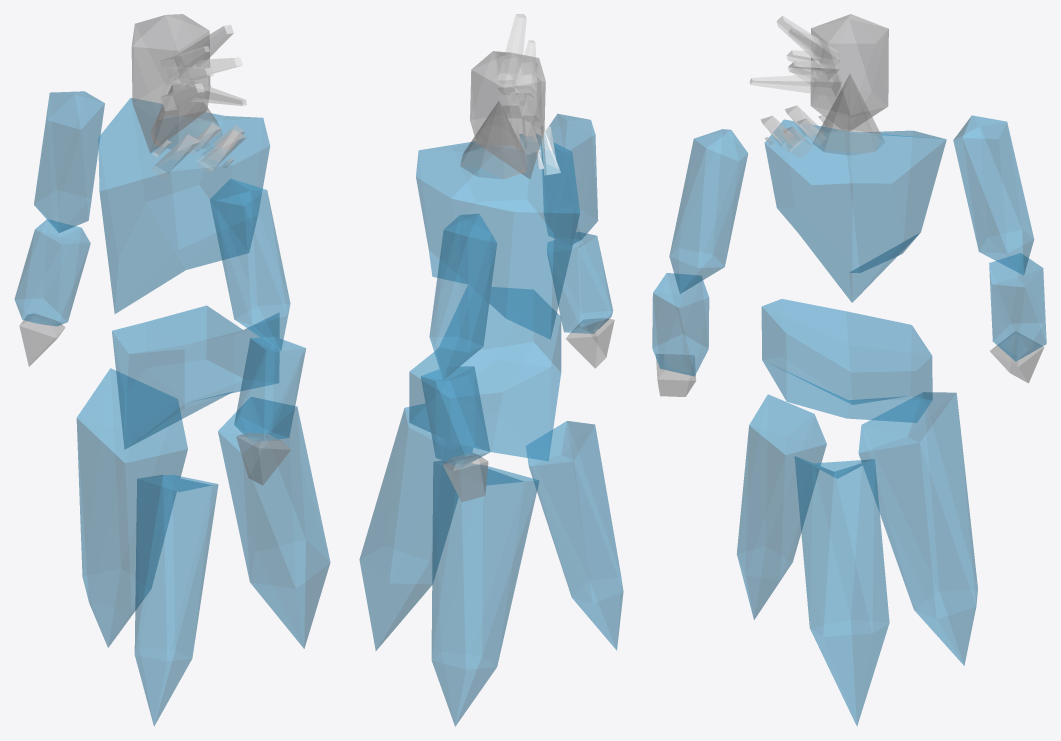
File: ghostIdle30.obj
3 renders of one model, left to right at view 1: azimuth 30°, elevation 25°; view 2: azimuth 150°, elevation 25°; view 3: azimuth 270°, elevation 25°, orthographic. The views are drawn at different scales.
Parts seen in each view (by area): view 1: Cube.001_Cube.001, Icosphere.005, Icosphere.004, Cube_Cube.002, Icosphere.003, Icosphere.005_Icosphere.001, Icosphere.003_Icosphere.001, Icosphere.007_Icosphere.001, Icosphere.008_Icosphere.001, Icosphere.006_Icosphere.001, Cone_Cone.002, Cube.002_Cube.001 (+8 smaller); view 2: Cube.001_Cube.001, Cube_Cube.002, Icosphere.005, Icosphere.004, Icosphere.003, Icosphere.007_Icosphere.001, Icosphere.003_Icosphere.001, Icosphere.005_Icosphere.001, Icosphere.008_Icosphere.001, Icosphere.006_Icosphere.001, Cone_Cone.002, Cube.003_Cube.001 (+5 smaller); view 3: Cube.001_Cube.001, Icosphere.005, Icosphere.004, Cube_Cube.002, Icosphere.003, Icosphere.005_Icosphere.001, Icosphere.007_Icosphere.001, Icosphere.003_Icosphere.001, Icosphere.006_Icosphere.001, Icosphere.008_Icosphere.001, Cone_Cone.002, Cube.003_Cube.001 (+4 smaller).
Part boxes in pixels (<box>): Cube.001_Cube.001: <box>98,98,269,313</box>; Icosphere.005: <box>76,368,187,647</box>; Icosphere.004: <box>218,397,330,648</box>; Cube_Cube.002: <box>112,305,279,449</box>; Icosphere.003: <box>134,474,218,726</box>; Icosphere.005_Icosphere.001: <box>210,179,290,350</box>; Icosphere.003_Icosphere.001: <box>131,14,210,153</box>; Icosphere.007_Icosphere.001: <box>34,91,104,232</box>; Icosphere.008_Icosphere.001: <box>14,219,90,326</box>; Icosphere.006_Icosphere.001: <box>234,337,305,441</box>; Cone_Cone.002: <box>150,85,222,149</box>; Cube.002_Cube.001: <box>236,433,290,485</box>; Cube.001_Cube.001: <box>416,134,580,339</box>; Cube_Cube.002: <box>409,285,561,461</box>; Icosphere.005: <box>431,460,539,726</box>; Icosphere.004: <box>359,404,472,650</box>; Icosphere.003: <box>526,421,623,650</box>; Icosphere.007_Icosphere.001: <box>429,213,497,379</box>; Icosphere.003_Icosphere.001: <box>470,51,545,178</box>; Icosphere.005_Icosphere.001: <box>541,114,598,245</box>; Icosphere.008_Icosphere.001: <box>421,366,490,467</box>; Icosphere.006_Icosphere.001: <box>547,232,612,333</box>; Cone_Cone.002: <box>460,101,525,179</box>; Cube.003_Cube.001: <box>443,453,488,502</box>; Cube.001_Cube.001: <box>764,119,946,302</box>; Icosphere.005: <box>858,392,977,665</box>; Icosphere.004: <box>794,456,889,725</box>; Cube_Cube.002: <box>761,299,932,422</box>; Icosphere.003: <box>737,394,826,619</box>; Icosphere.005_Icosphere.001: <box>669,129,748,293</box>; Icosphere.007_Icosphere.001: <box>953,115,1034,275</box>; Icosphere.003_Icosphere.001: <box>810,14,888,130</box>; Icosphere.006_Icosphere.001: <box>652,273,709,376</box>; Icosphere.008_Icosphere.001: <box>989,253,1046,361</box>; Cone_Cone.002: <box>812,74,884,155</box>; Cube.003_Cube.001: <box>990,331,1043,383</box>.
Size of the model in its own units: 16.8 by 48.65 by 26.32.
